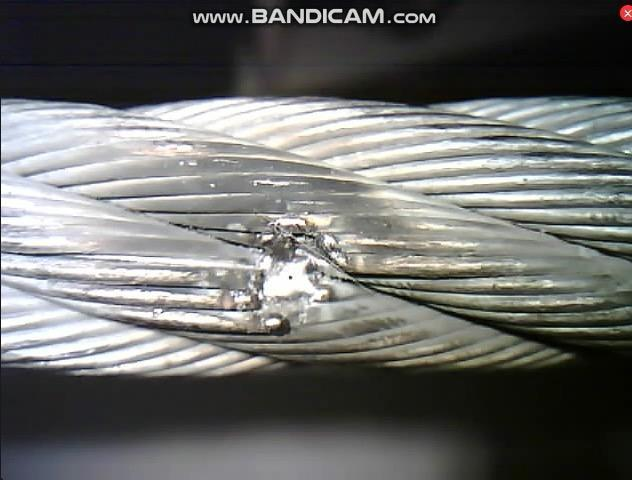thunderbolt: (194, 185, 394, 355)
